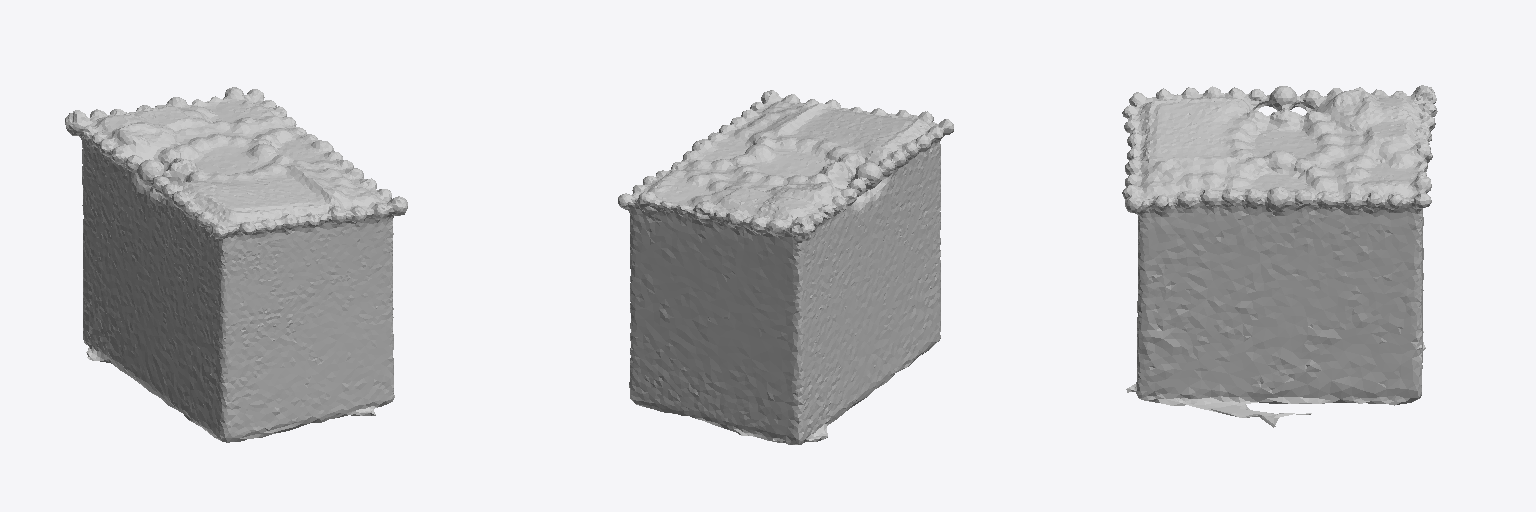
Rendered from 3DModel.obj.
The picture shows the model from 3 angles: view 1: azimuth 30°, elevation 25°; view 2: azimuth 150°, elevation 25°; view 3: azimuth 270°, elevation 25°; orthographic projection.
Parts seen in each view (by area): view 1: submesh; view 2: submesh; view 3: submesh.
Boxes of the visible parts, x1,y1,x2,y2 form: submesh: [65, 87, 407, 442]; submesh: [618, 90, 953, 444]; submesh: [1122, 85, 1437, 427].
Size of the model in its own units: 1.08 by 1.05 by 1.25.